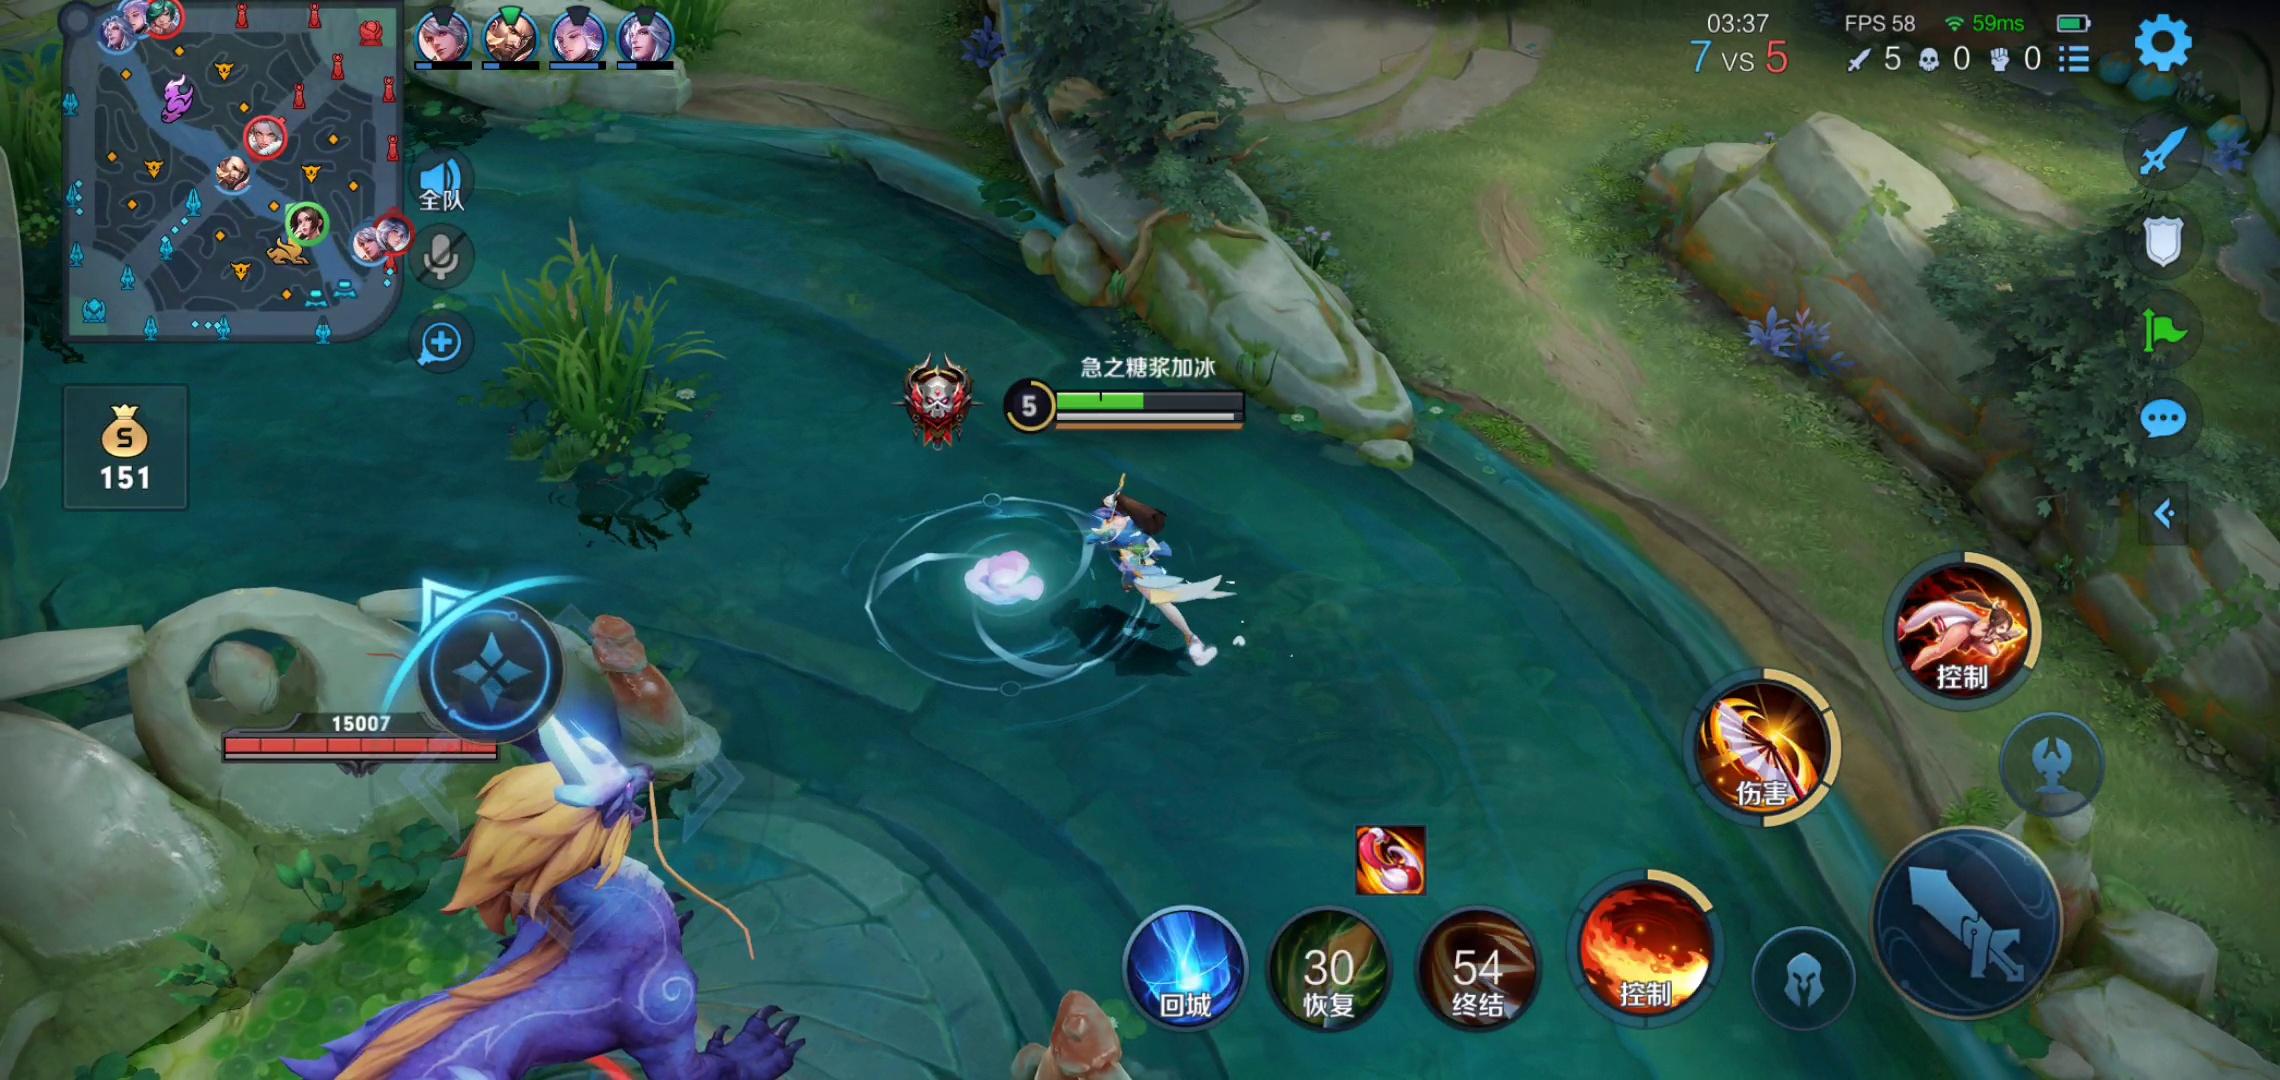dragon: (161, 608, 862, 1079)
grass: (481, 251, 705, 480)
hero: (1045, 470, 1243, 679)
